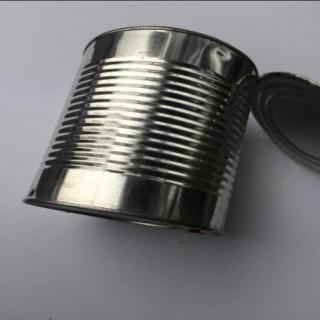Anorganik: (20, 20, 318, 238)
